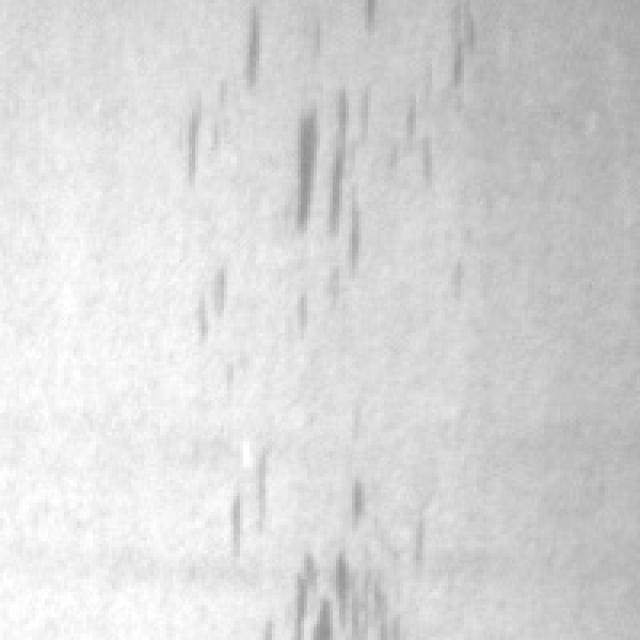inclusion: (262, 470, 416, 637), (266, 74, 387, 275), (179, 243, 253, 352)
